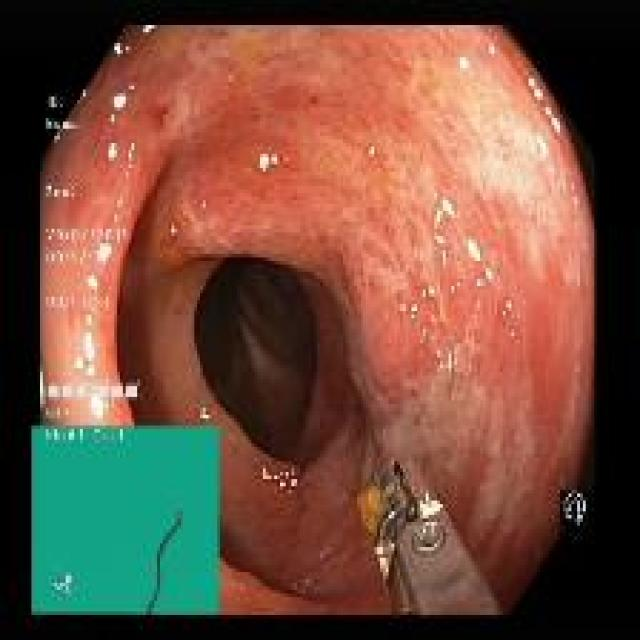ulcerative-colitis: (42, 25, 595, 614)
